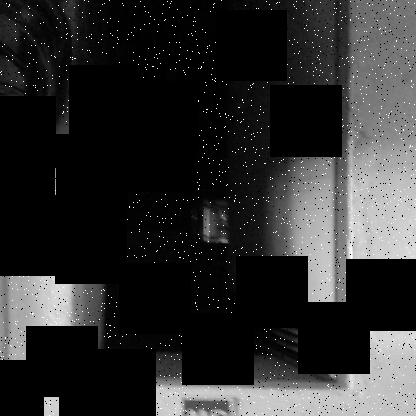Porte: (70, 1, 350, 391)
